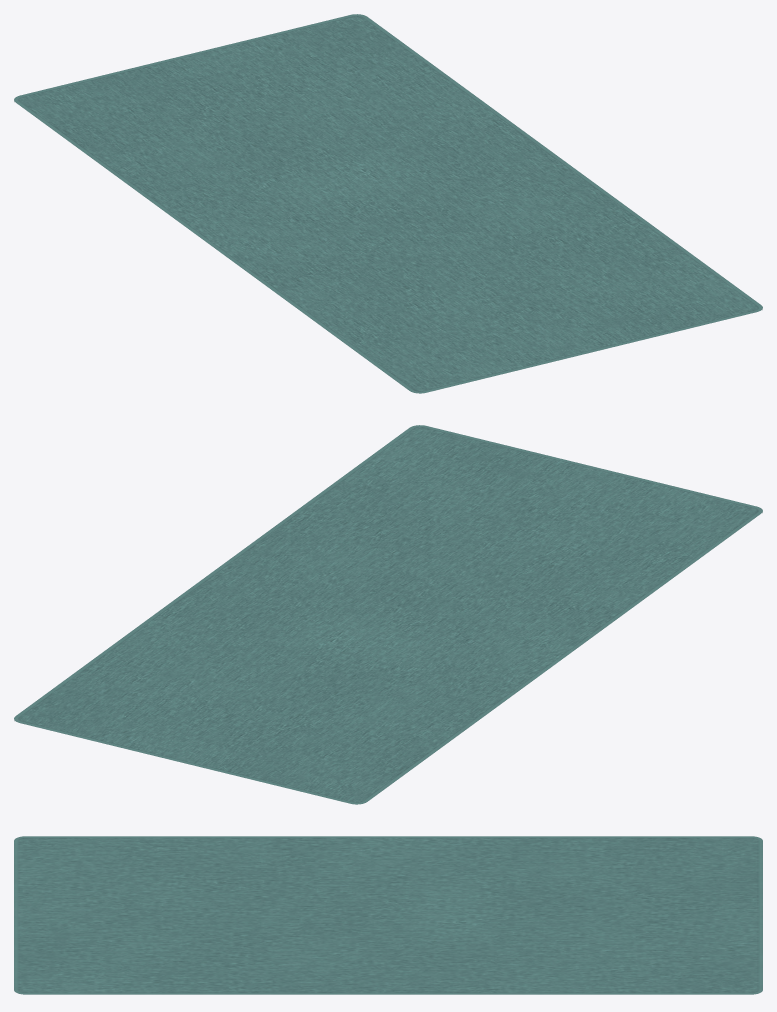
File: green_module.glb
3 views of the same model, one above another, from view 1: azimuth 30°, elevation 25°; view 2: azimuth 150°, elevation 25°; view 3: azimuth 270°, elevation 25° (orthographic). The views are drawn at different scales.
Visible parts, largest first — view 1: reliv_green_module; view 2: reliv_green_module; view 3: reliv_green_module.
Part boxes in pixels (x1,y1,x2,y2): reliv_green_module: (14, 14, 762, 393); reliv_green_module: (14, 425, 762, 804); reliv_green_module: (14, 836, 762, 994).
Size of the model in its own units: 1 by 0.009 by 2.
Materials: 2 (1 with a texture image).
